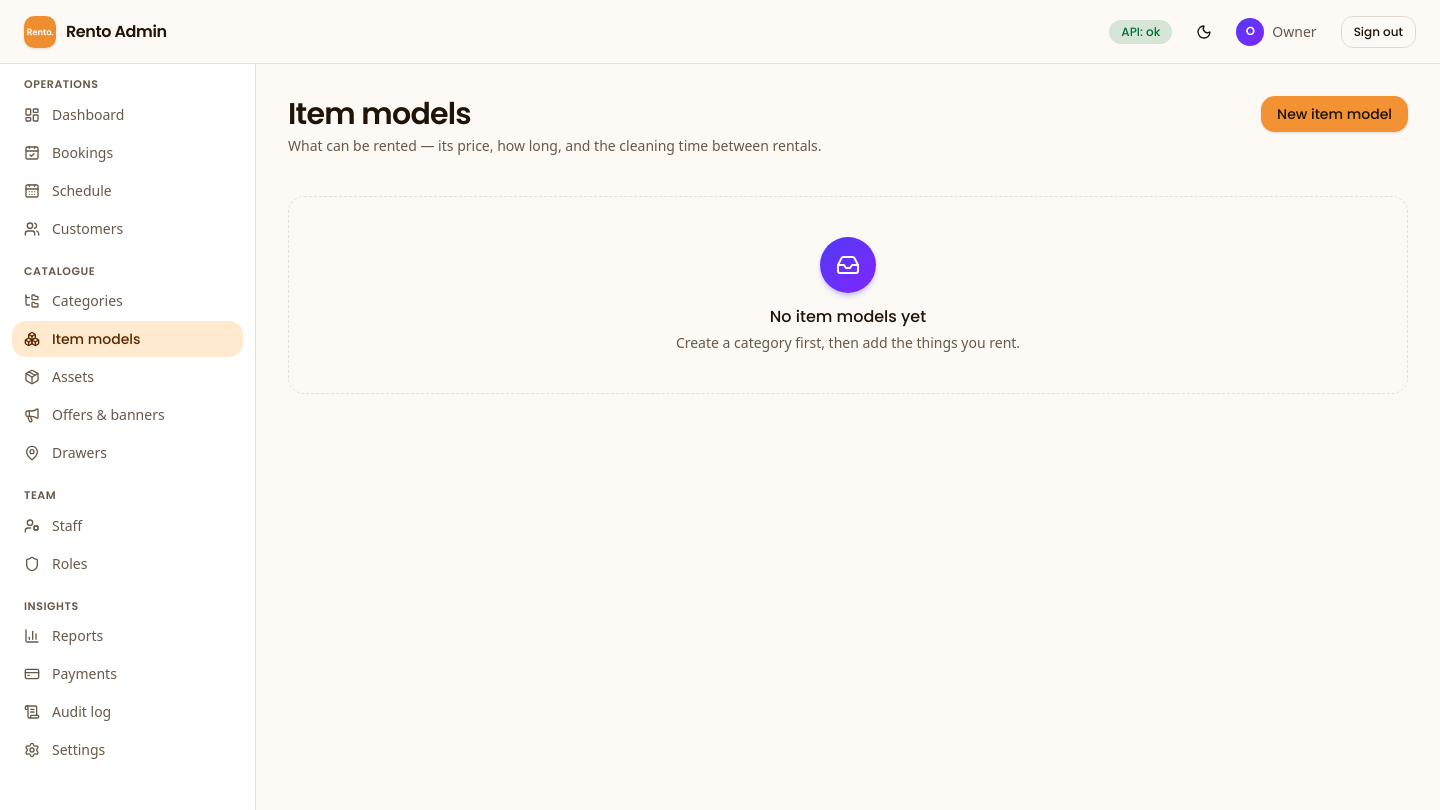
Test: offers on products (item models page) › O-06 a percent of "12.5" is refused on the field and nothing is sent
Click the button "New item model" at [1334, 114], box [1261,96,1408,132]
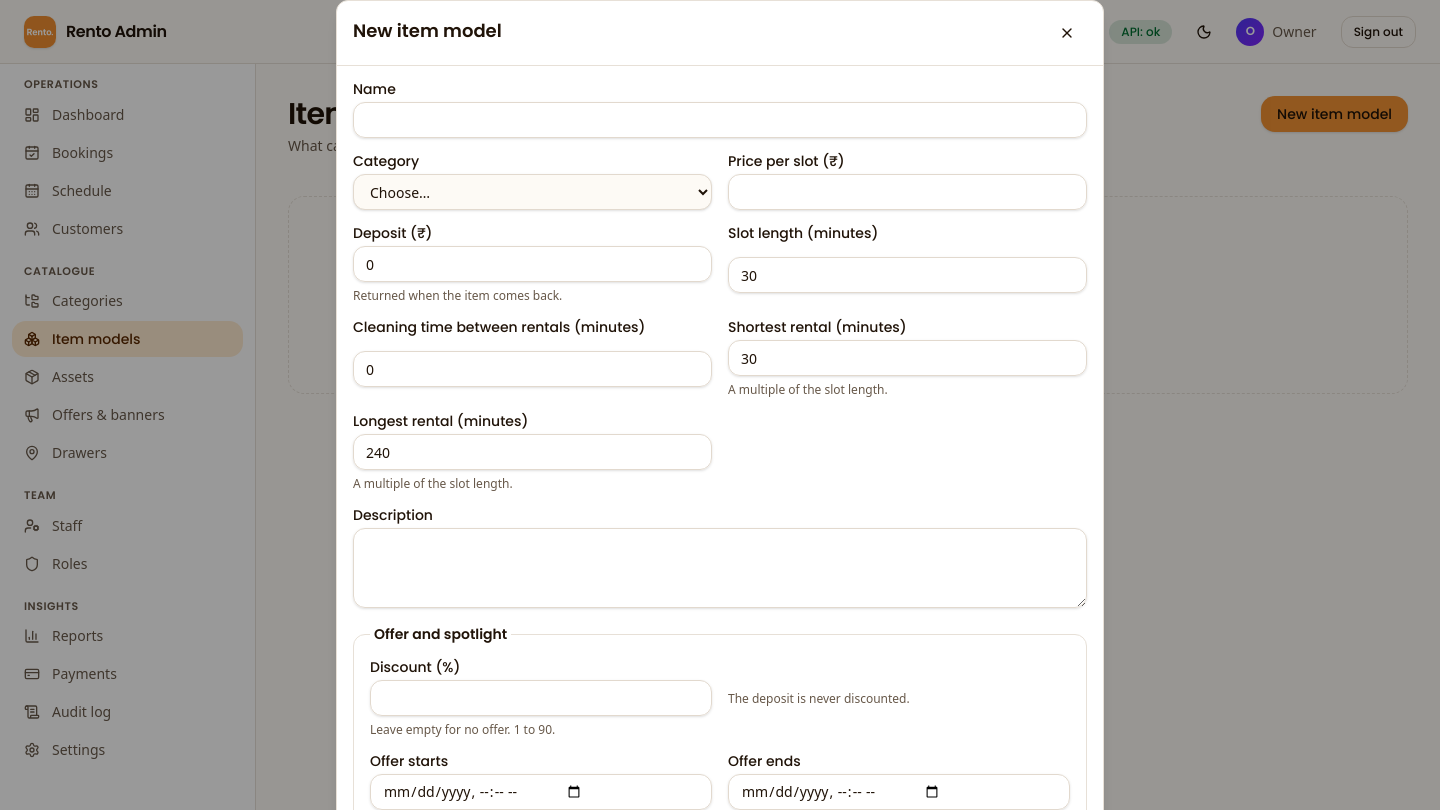
Type "X" into the field labelled "Name" at [720, 120], box [353,102,1087,138]
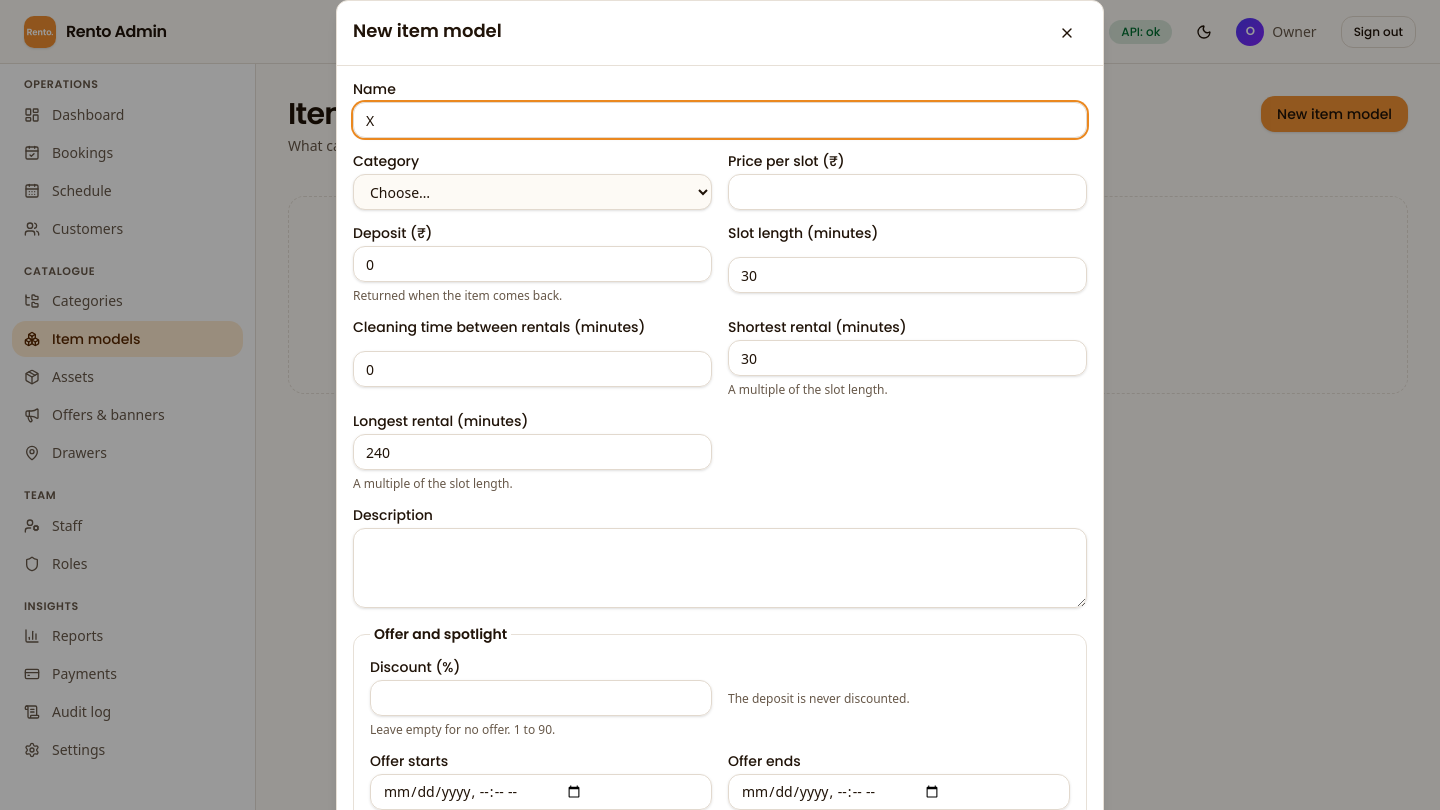
Select "Game consoles" in the dropdown labelled "Category" at [532, 192], box [353,174,712,210]
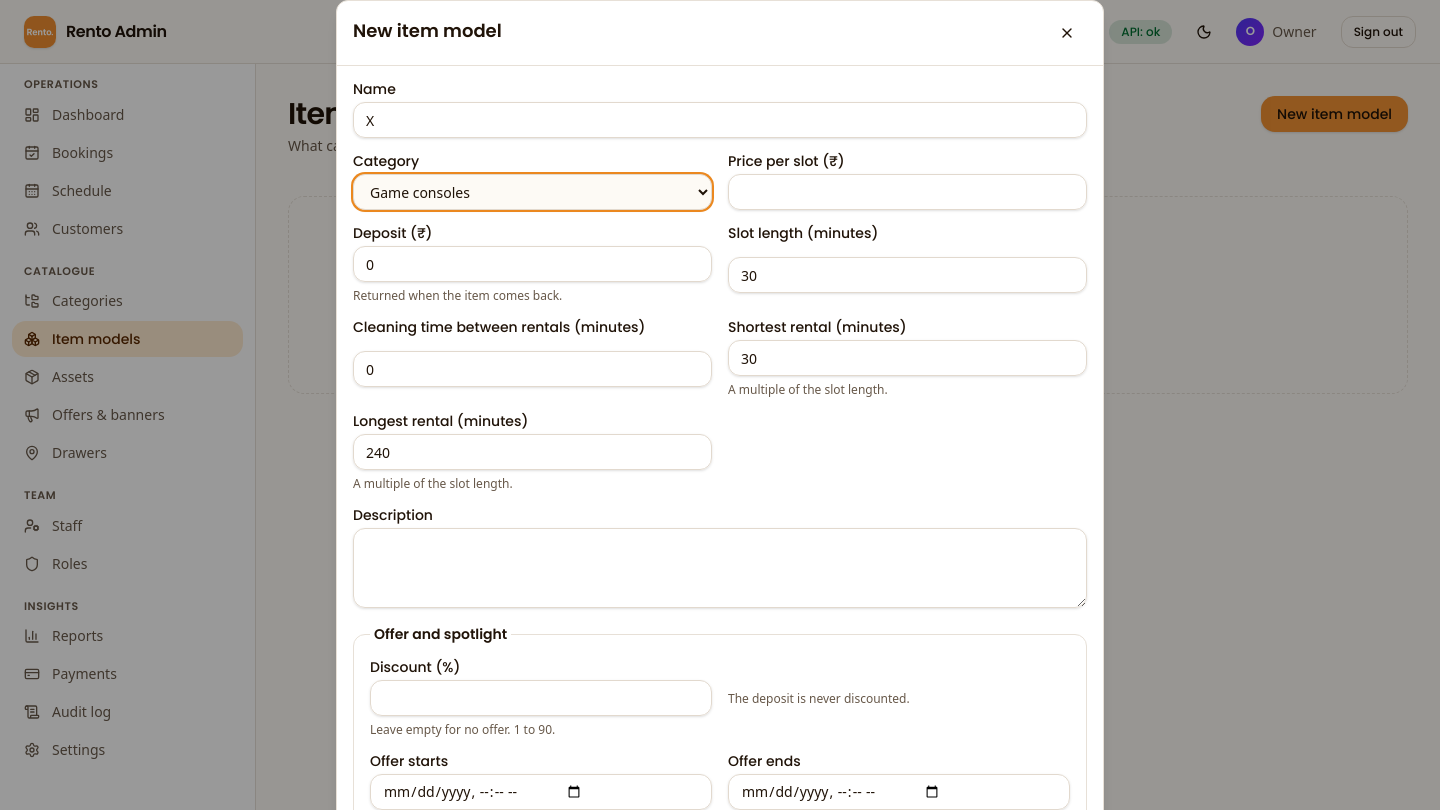
Type "10" into the field labelled "Price per slot (₹)" at [908, 192], box [728,174,1087,210]
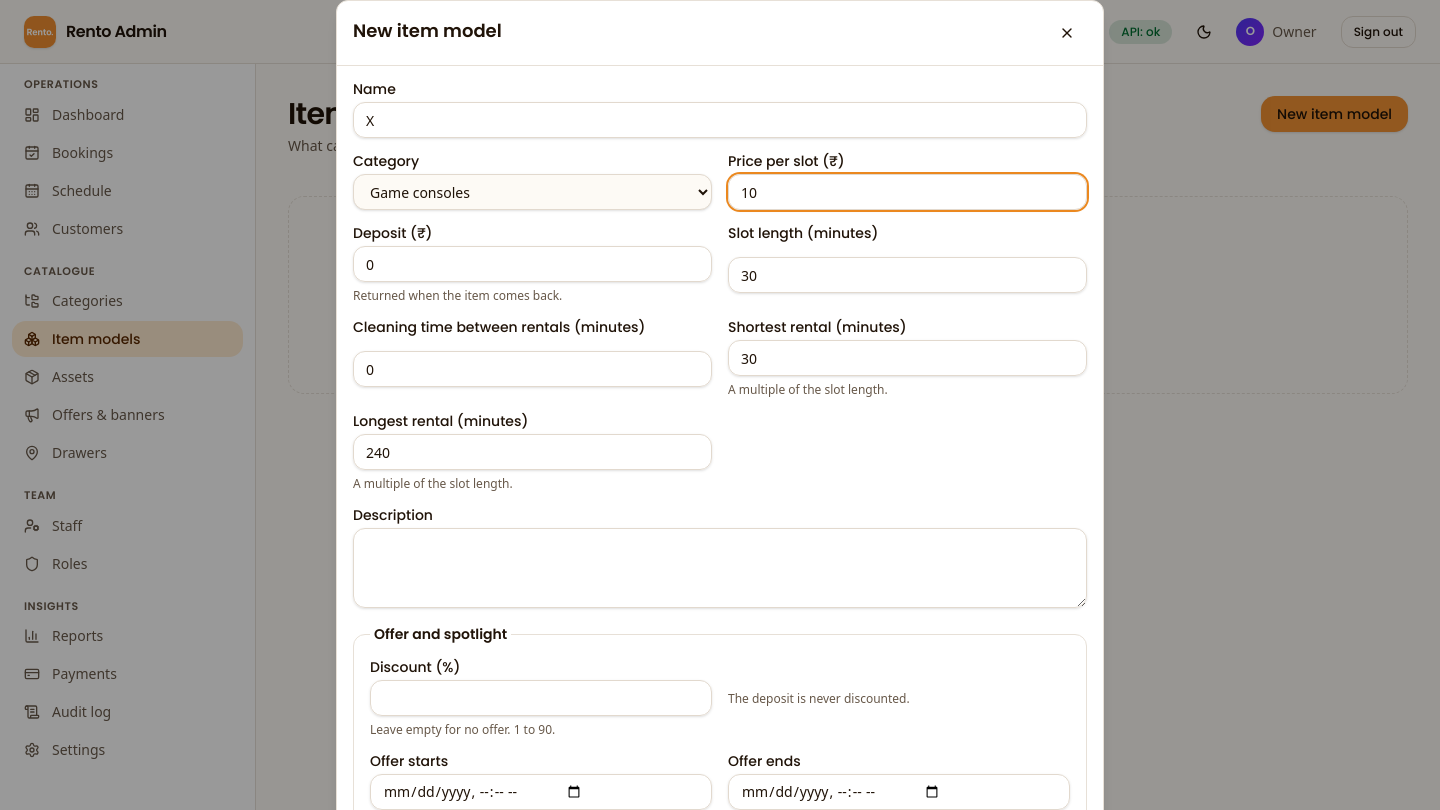
Type "12.5" into the field labelled "Discount (%)" at [541, 698], box [370,680,712,716]
(page scrolled)
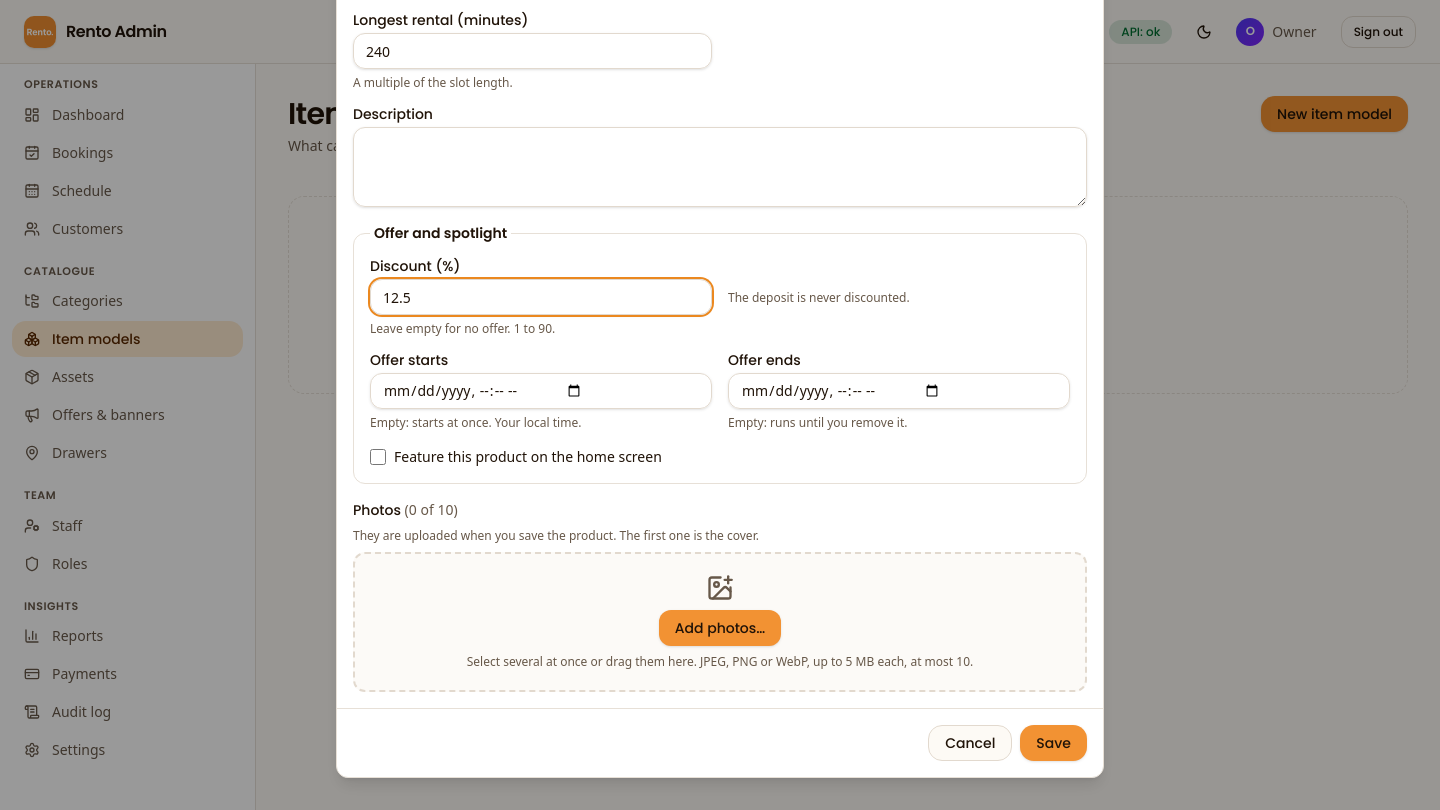
Click the button "Save" at [1054, 743], box [1020,725,1087,761]
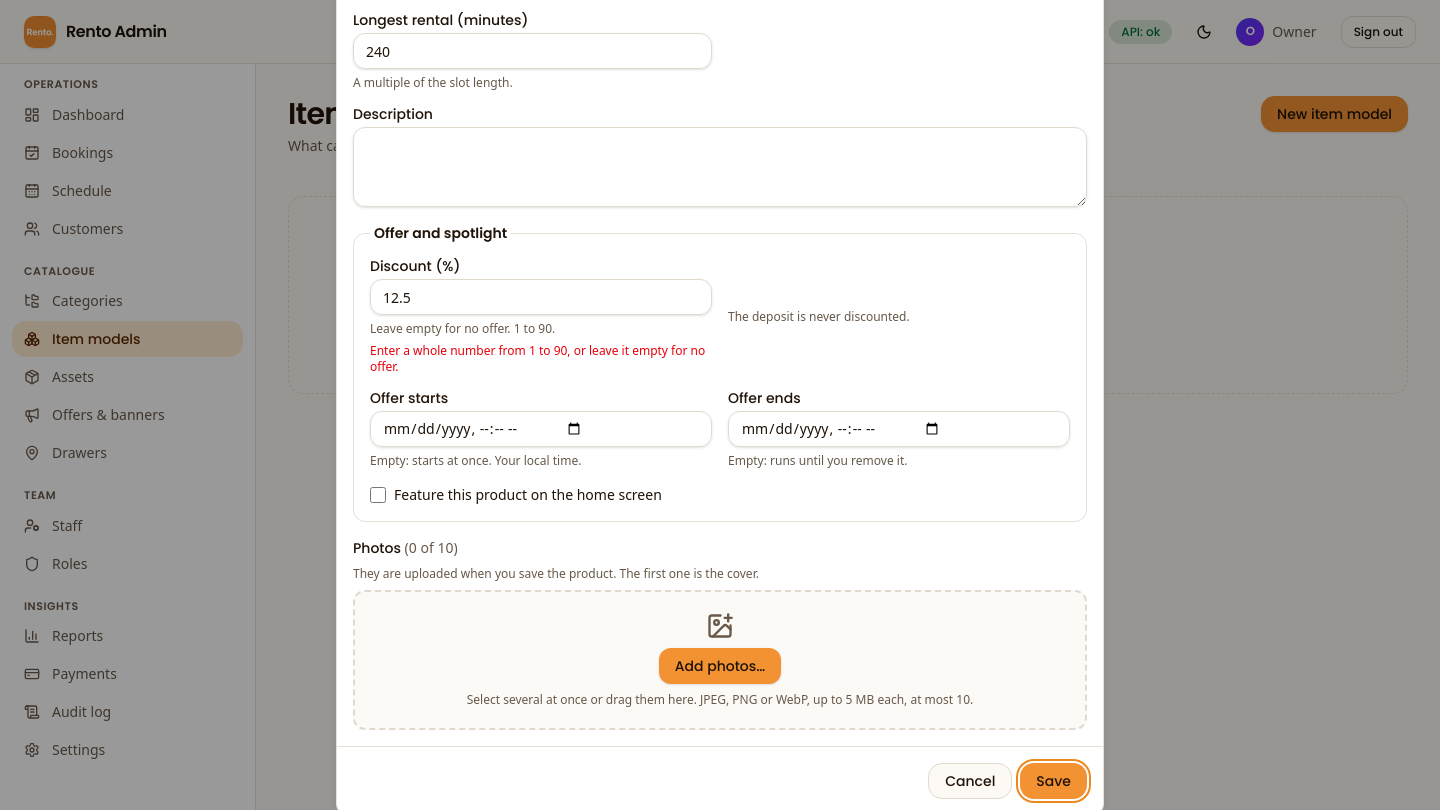
Result: the text "Enter a whole number from 1 to 90, or leave it empty for no offer." is shown at [370,343,712,375]
